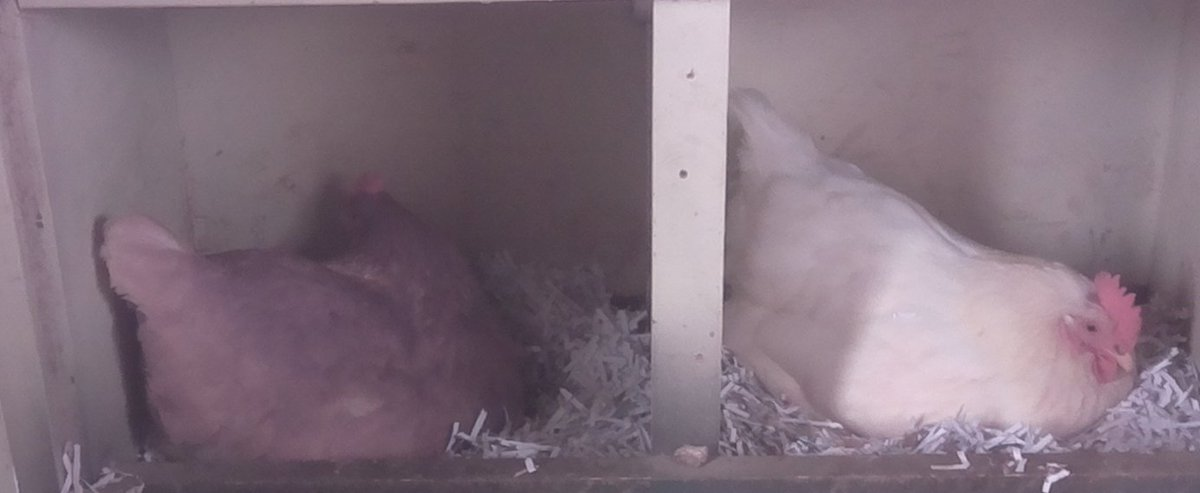hen: (730, 81, 1149, 450), (79, 167, 549, 456)
